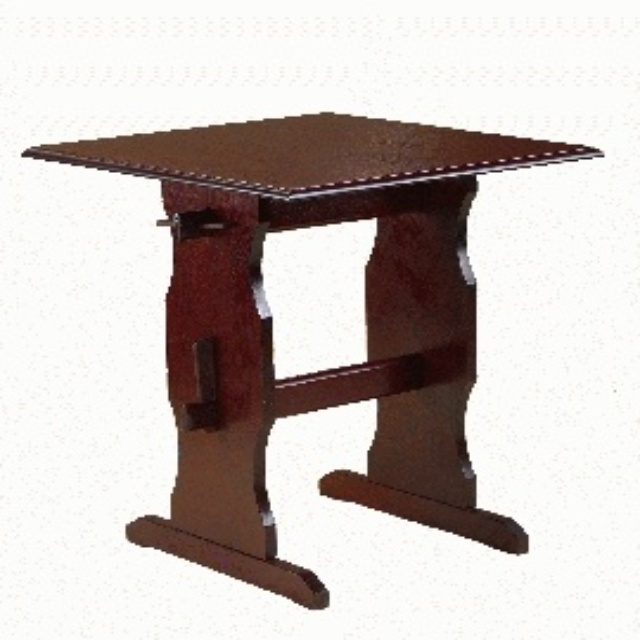obstacle: (24, 112, 600, 608)
